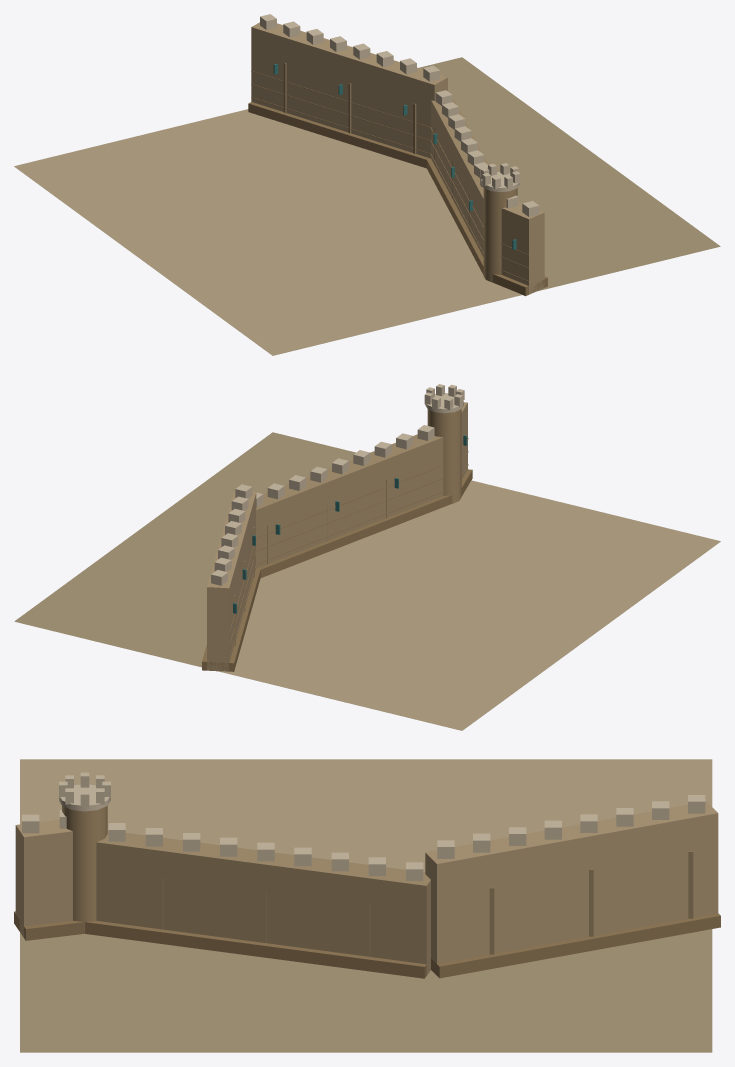
File: city-boundary-1_-1.glb
3 views of the same model, one above another, from view 1: azimuth 30°, elevation 25°; view 2: azimuth 150°, elevation 25°; view 3: azimuth 270°, elevation 25° (orthographic). The views are drawn at different scales.
Parts seen in each view (by area): view 1: city-boundary-1_-1; view 2: city-boundary-1_-1; view 3: city-boundary-1_-1.
Part boxes in pixels (x1,y1,x2,y2): city-boundary-1_-1: (14,14,720,355); city-boundary-1_-1: (14,384,720,730); city-boundary-1_-1: (14,759,720,1052).
Bounding box in the file's own units: 32 × 7.19 × 32.67.
